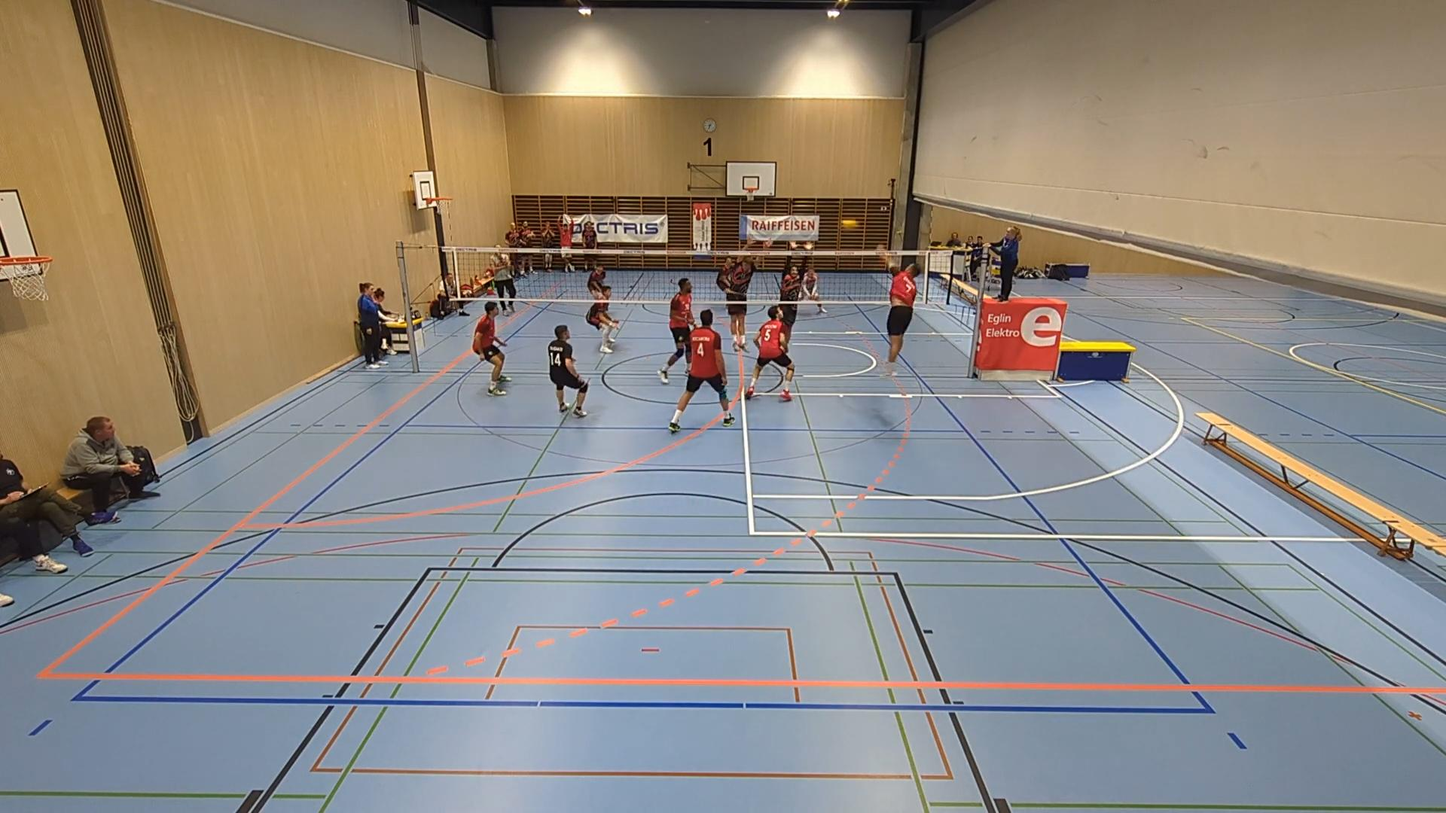attacco: (869, 242, 923, 367)
muro: (717, 236, 774, 348), (774, 231, 817, 350)
